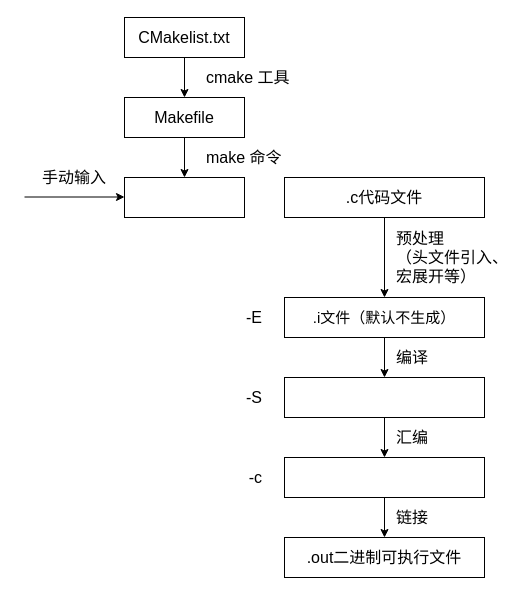
Some shapes in this 532 by 595 pixel diagram are drawn without their labels. The shapes that lost their labels are listed below. From the top down, each one's centre as x and y in pixels, then its label:
point (184, 197): gcc命令
point (384, 397): .s汇编文件
point (384, 477): .o二进制机器码文件
